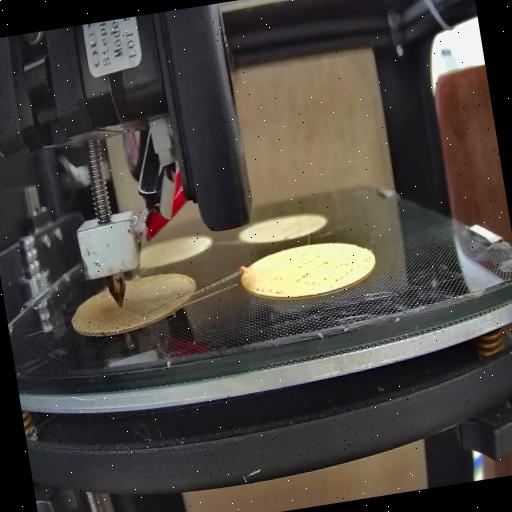under_extrusion: (250, 255, 374, 307), (70, 290, 192, 340)
